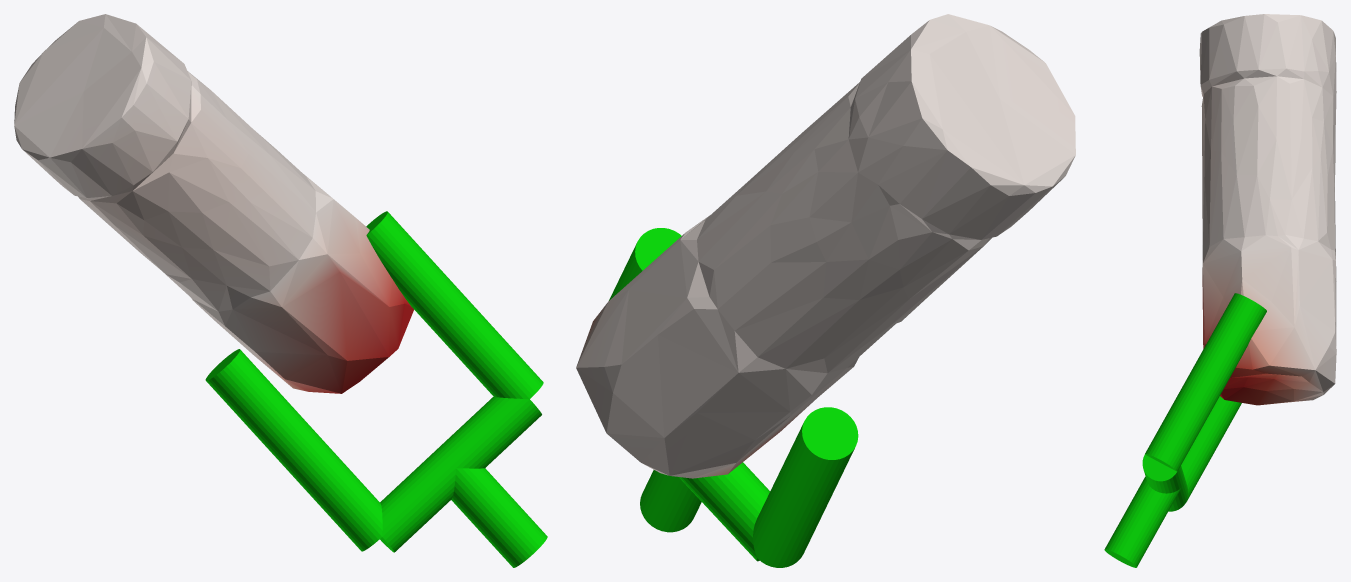
The model's file is round_000_trial_000.obj.
3 renders of one model, left to right at view 1: azimuth 30°, elevation 25°; view 2: azimuth 150°, elevation 25°; view 3: azimuth 270°, elevation 25°, orthographic. The views are drawn at different scales.
Parts seen in each view (by area): view 1: geometry_0, geometry_1; view 2: geometry_0, geometry_1; view 3: geometry_0, geometry_1.
Boxes of the visible parts, x1,y1,x2,y2 form: geometry_0: [14, 14, 413, 393]; geometry_1: [205, 211, 547, 567]; geometry_0: [576, 14, 1075, 478]; geometry_1: [609, 228, 858, 567]; geometry_0: [1199, 14, 1336, 405]; geometry_1: [1104, 293, 1266, 567].
Bounding box in the file's own units: 0.1112 × 0.1301 × 0.0624.
